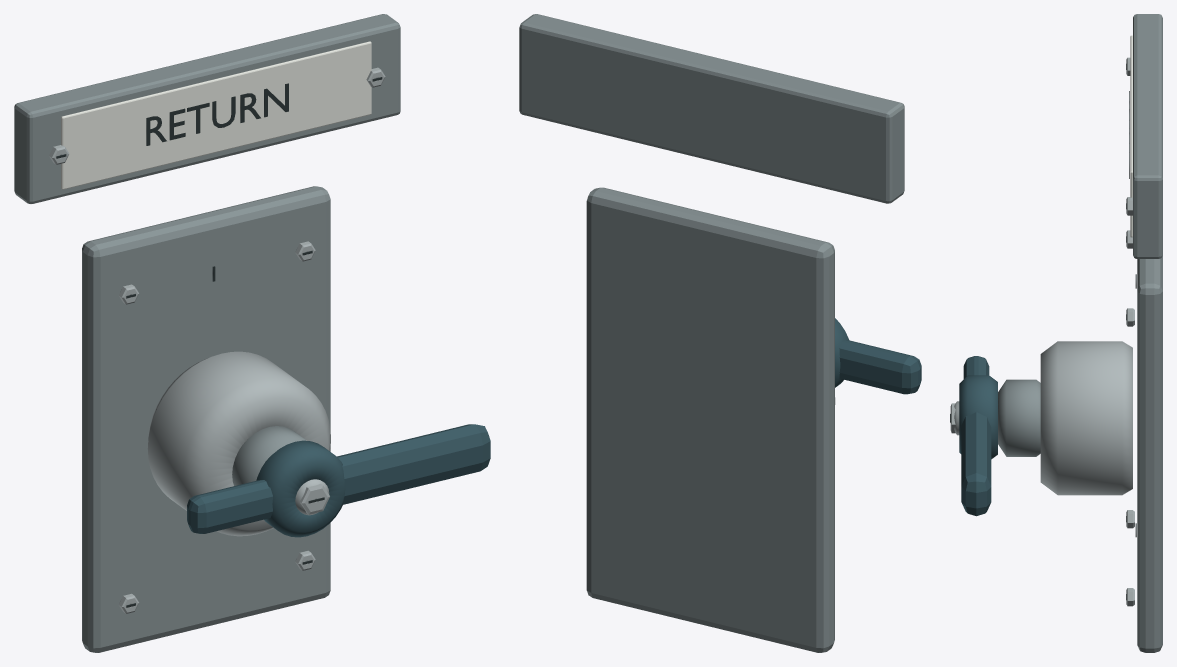
Rendered from pool_return_valve.glb.
3 renders of one model, left to right at view 1: azimuth 30°, elevation 25°; view 2: azimuth 150°, elevation 25°; view 3: azimuth 270°, elevation 25°, orthographic. The views are drawn at different scales.
Parts seen in each view (by area): view 1: ValveMountAndHousing, ValveLabel, ValveHandle, ValveLabelText, ValveFasteners; view 2: ValveMountAndHousing, ValveHandle; view 3: ValveMountAndHousing, ValveHandle, ValveFasteners, ValveLabel.
Part boxes in pixels (bbox=[...]): ValveMountAndHousing: bbox=[14, 14, 400, 652]; ValveLabel: bbox=[61, 41, 371, 189]; ValveHandle: bbox=[187, 424, 490, 537]; ValveLabelText: bbox=[146, 83, 288, 145]; ValveFasteners: bbox=[49, 67, 385, 613]; ValveMountAndHousing: bbox=[519, 14, 904, 652]; ValveHandle: bbox=[835, 318, 921, 394]; ValveMountAndHousing: bbox=[954, 14, 1162, 652]; ValveHandle: bbox=[959, 356, 997, 516]; ValveFasteners: bbox=[1126, 57, 1134, 606]; ValveLabel: bbox=[1130, 35, 1132, 237].
Size of the model in its own units: 0.182 by 0.2615 by 0.0993.
